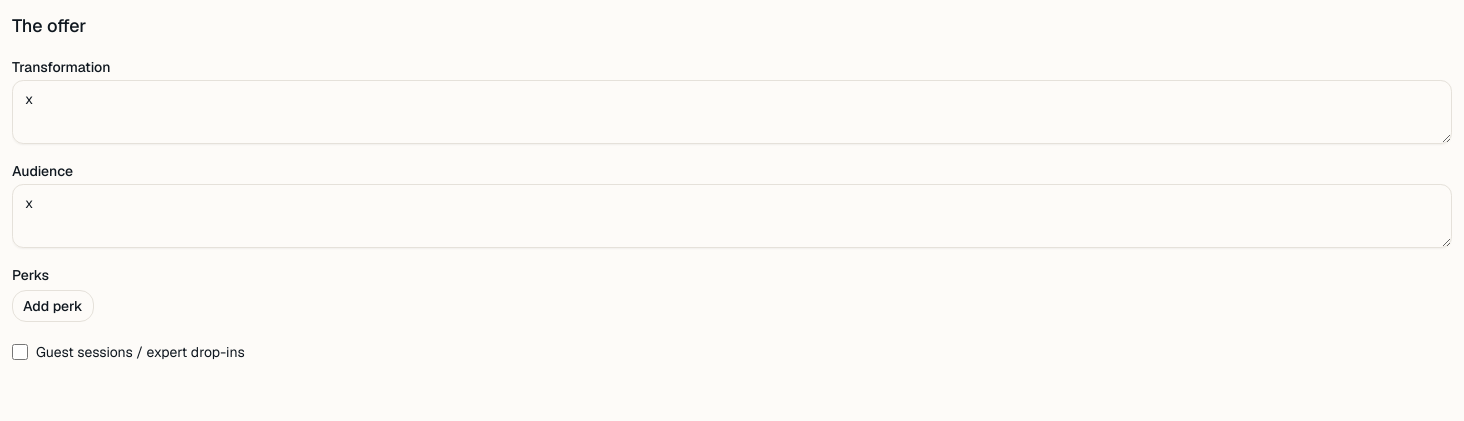
it: Step2Offer › Add perk button appends a new row
Click the button "Add perk".
click(53, 306)  # box [12, 290, 94, 322]
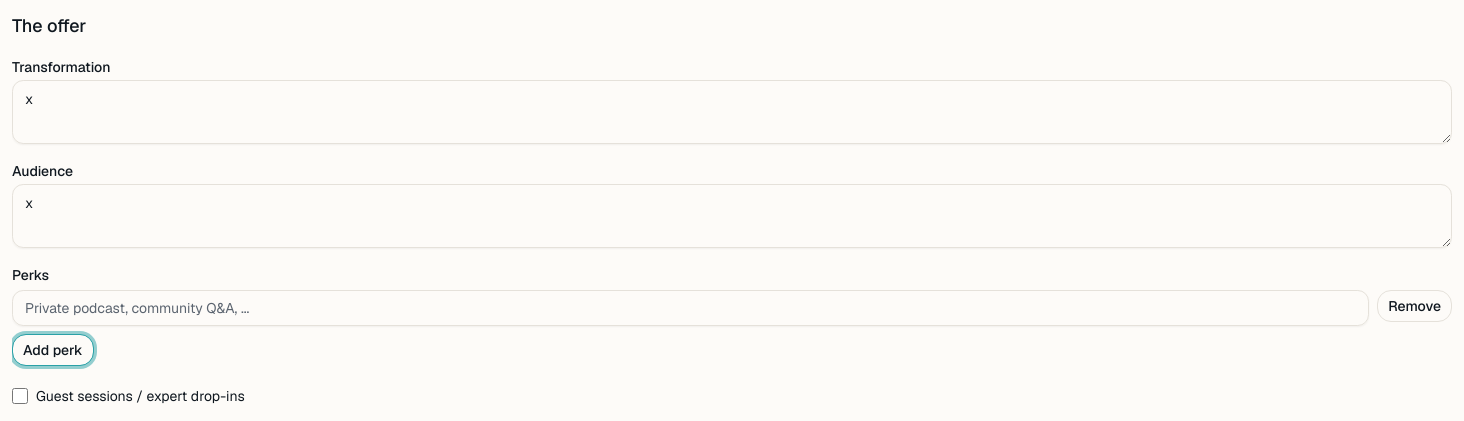
Expected: the number of fields with placeholder "Private podcast, community Q&A, ..." is 1, [12, 290, 1369, 326]
